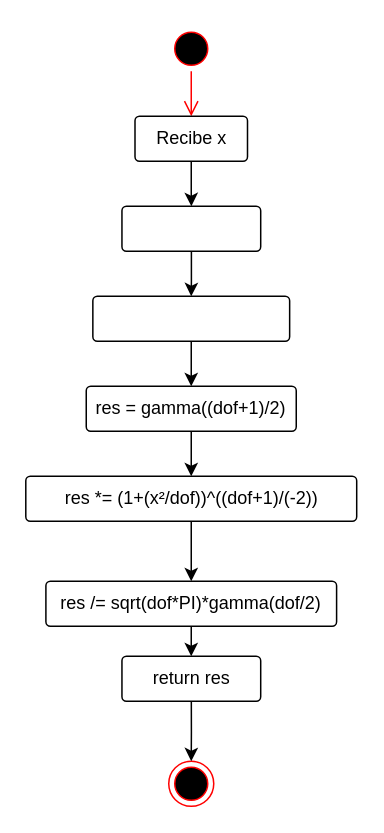
Image size: 384x833. Some labels were removed from this diagram. Here are the shapes that lost their labels. From the top down, the box of each, then its label:
(120, 205, 261, 251): Declarar res = 0
(91, 295, 290, 341): Declarar dof = getDOF
